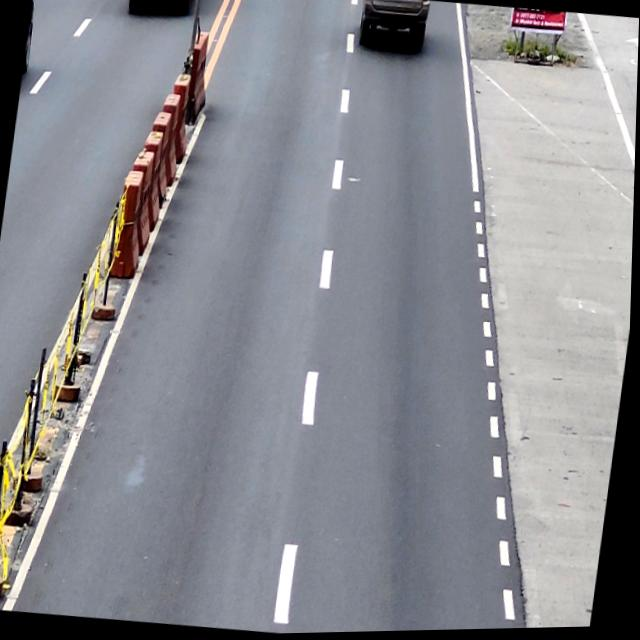Car: (356, 0, 431, 55)
